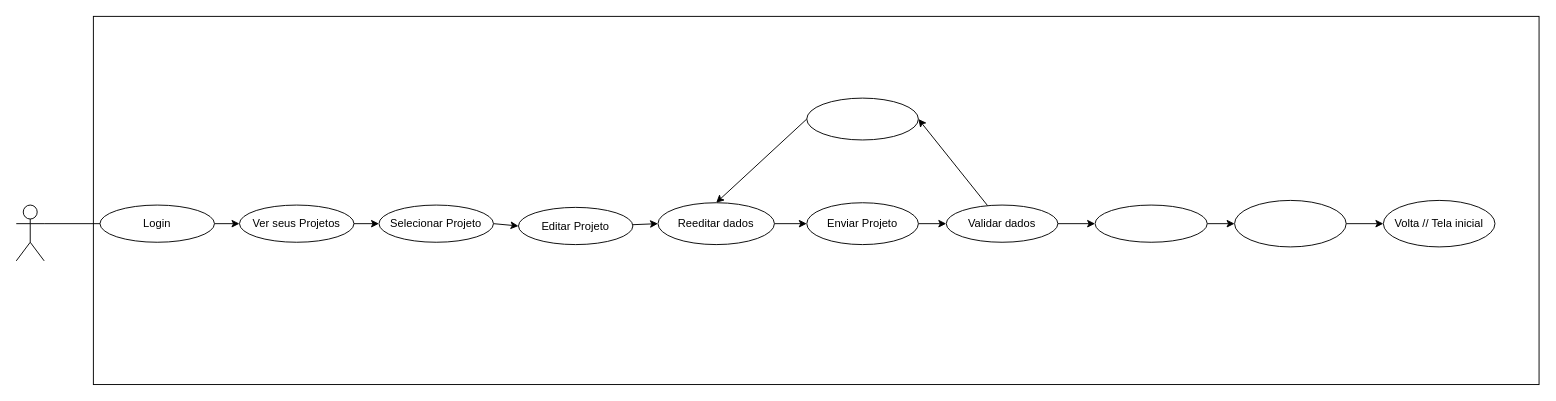
This 1556x401 diagram has some shape labels left out. Here are the shapes that lost their labels. From the top down, the box of each, then its label:
(806, 97, 918, 140): Dados inválidos
(15, 204, 44, 261): Aluno
(1094, 204, 1207, 242): Gravar no banco
(1234, 199, 1346, 247): Mensagem de confirmação
